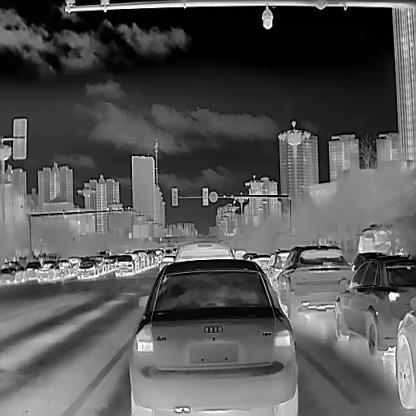car: (129, 259, 298, 416), (334, 253, 416, 355), (274, 244, 353, 320), (394, 294, 415, 409), (355, 220, 407, 254), (174, 239, 233, 262), (0, 259, 24, 281), (36, 259, 60, 280), (76, 258, 99, 279), (113, 253, 134, 276), (23, 259, 40, 279), (56, 259, 73, 277), (158, 254, 174, 272), (233, 247, 245, 258)
